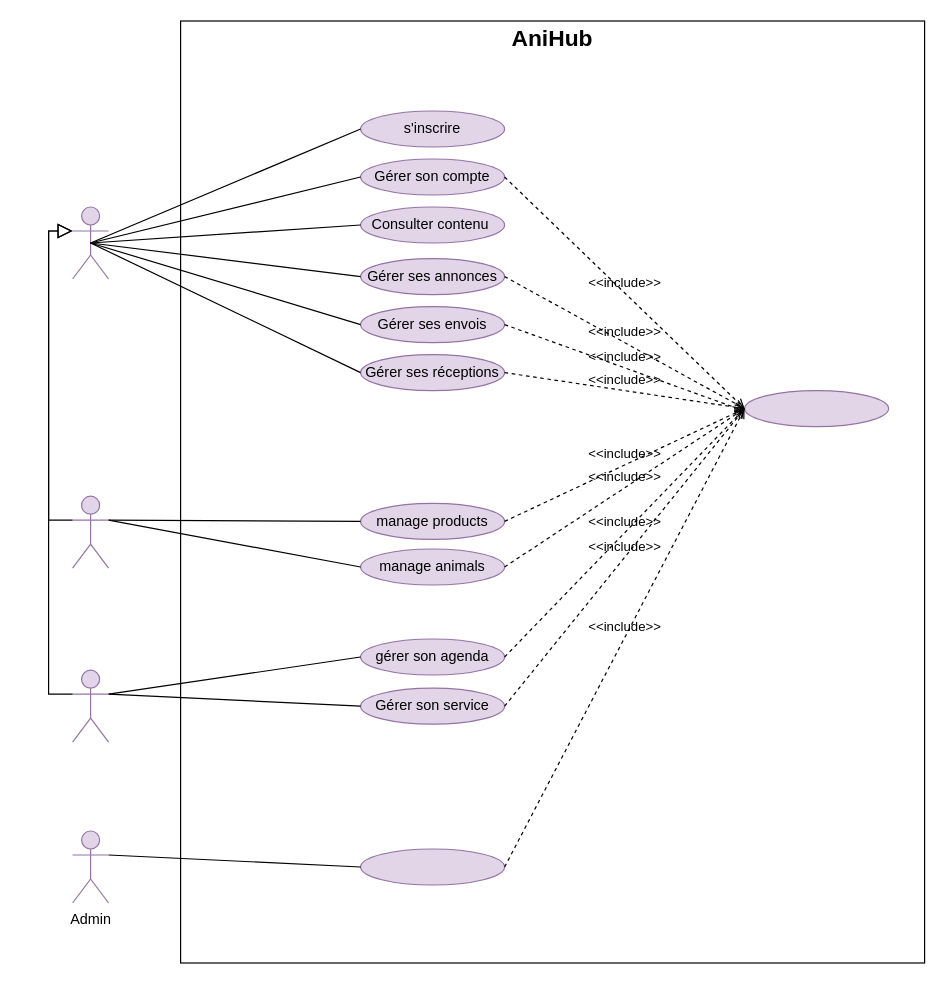
Some shapes in this 946 by 984 pixel diagram are drawn without their labels. Here are the shapes that lost their labels. From the top down, the box of each, then its label:
(71, 206, 109, 279): Utilisateur
(743, 389, 889, 427): S'authentifier
(71, 495, 109, 568): Vendeur
(71, 669, 109, 742): Prestataire de service
(359, 848, 505, 885): Gérer plateforme
